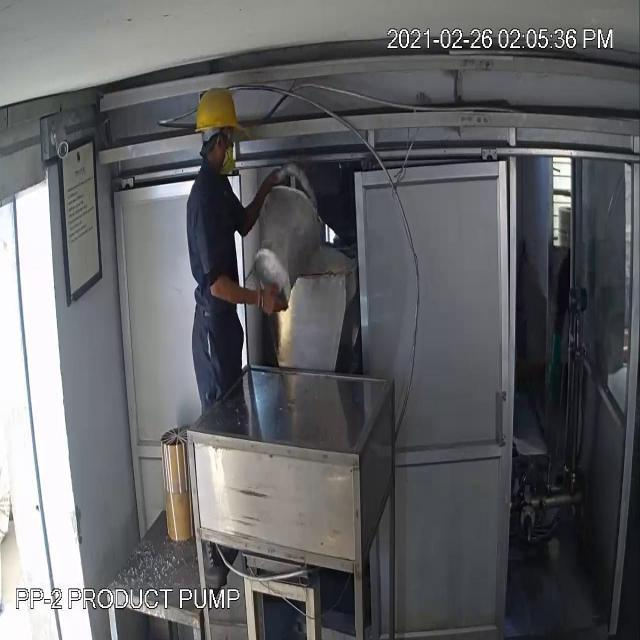hat: (184, 74, 243, 142)
